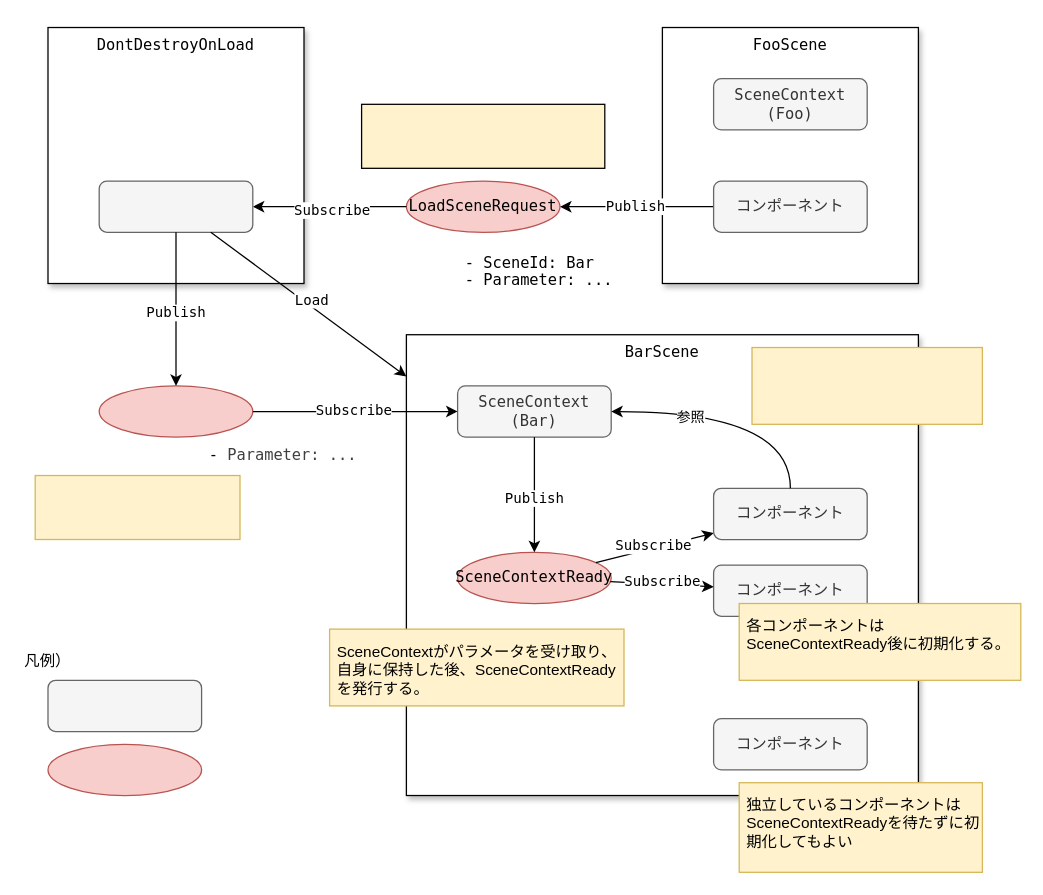
This 1043x895 diagram has some shape labels left out. The centre of each missing label's shape, as x and y in pixels:
Event: point (124, 769)
LoadSceneRequest発行時に パラメータを付与する: point (482, 135)
MonoBehaviour: point (124, 705)
SceneLoaded: point (175, 411)
SceneNavigator: point (175, 206)
シーン読み込み後、SceneLoadedを発行する。: point (137, 507)
各コンポーネントはSceneContextを参照できる。（更新はできない）: point (866, 385)
